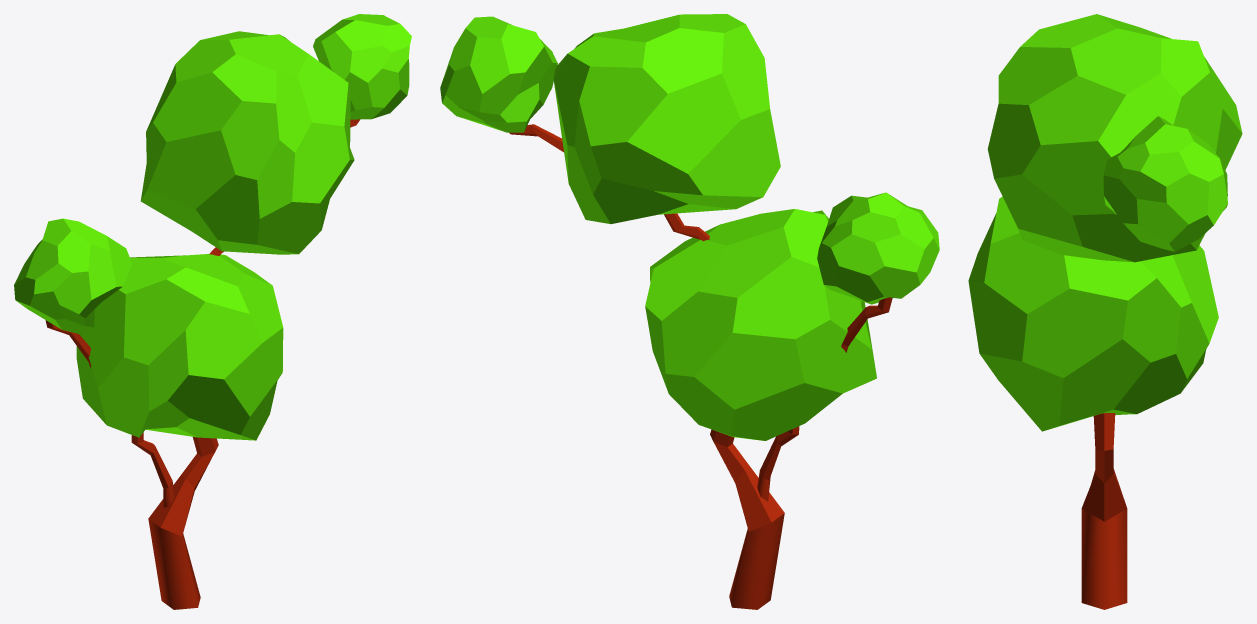
The model's file is arvoremodelo3.FBX.
The picture shows the model from 3 angles, left to right: view 1: azimuth 30°, elevation 25°; view 2: azimuth 150°, elevation 25°; view 3: azimuth 270°, elevation 25°; orthographic projection. The views are drawn at different scales.
Parts seen in each view (by area): view 1: Hedra004, Hedra001, Hedra003, Hedra005, Cylinder002, Cylinder003; view 2: Hedra004, Hedra001, Hedra003, Hedra005, Cylinder002, Cylinder003, Cylinder004; view 3: Hedra004, Hedra001, Hedra005, Cylinder002.
Boxes of the visible parts, box(x1,y1,x2,y2) form: Hedra004: box(140, 31, 354, 254); Hedra001: box(76, 254, 283, 440); Hedra003: box(14, 218, 132, 334); Hedra005: box(313, 14, 411, 119); Cylinder002: box(148, 437, 218, 609); Cylinder003: box(45, 320, 174, 507); Hedra004: box(553, 14, 780, 223); Hedra001: box(645, 209, 876, 440); Hedra003: box(817, 192, 939, 304); Hedra005: box(440, 16, 557, 132); Cylinder002: box(710, 429, 784, 609); Cylinder003: box(757, 297, 892, 501); Cylinder004: box(509, 124, 709, 241); Hedra004: box(987, 14, 1242, 262); Hedra001: box(968, 196, 1218, 431); Hedra005: box(1102, 116, 1227, 251); Cylinder002: box(1081, 413, 1127, 609).
Bounding box in the file's own units: 57.83 × 70.86 × 29.12.
